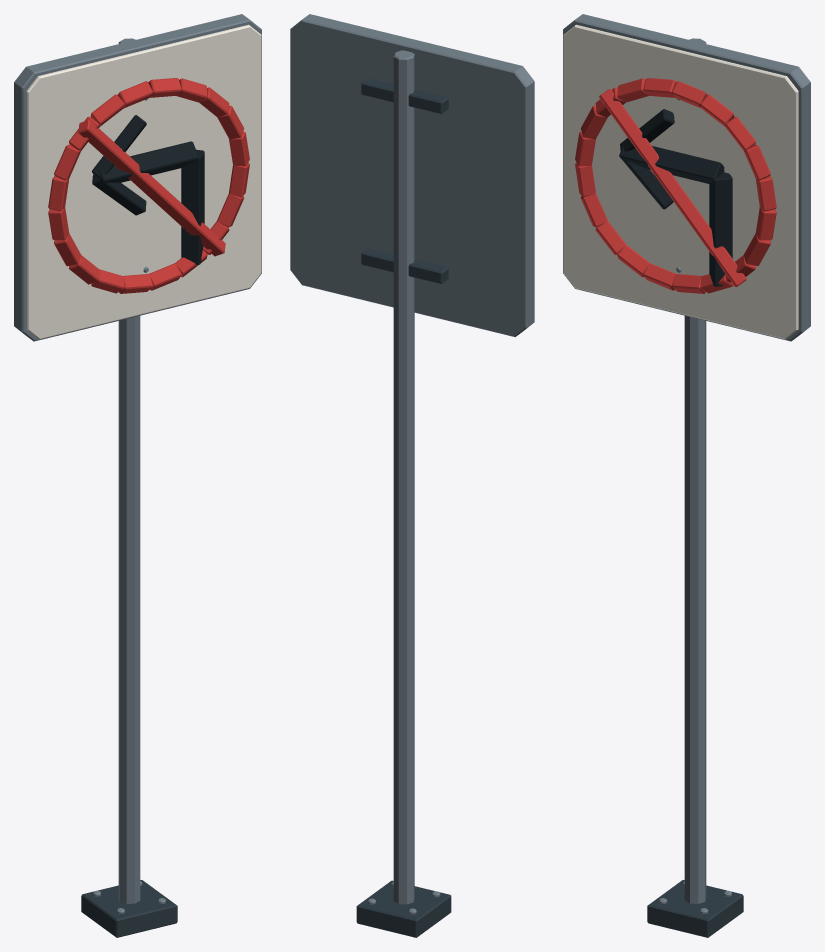
The model's file is b02_no_left_turn.glb.
The picture shows the model from 3 angles, left to right: view 1: azimuth 30°, elevation 25°; view 2: azimuth 150°, elevation 25°; view 3: azimuth 330°, elevation 25°; orthographic projection.
Parts seen in each view (by area): view 1: b02_no_left_turn; view 2: b02_no_left_turn; view 3: b02_no_left_turn.
Boxes of the visible parts, x1,y1,x2,y2 form: b02_no_left_turn: (14,14,261,937); b02_no_left_turn: (290,14,534,937); b02_no_left_turn: (563,14,810,937).
Bounding box in the file's own units: 0.7 × 2.45 × 0.2256.
